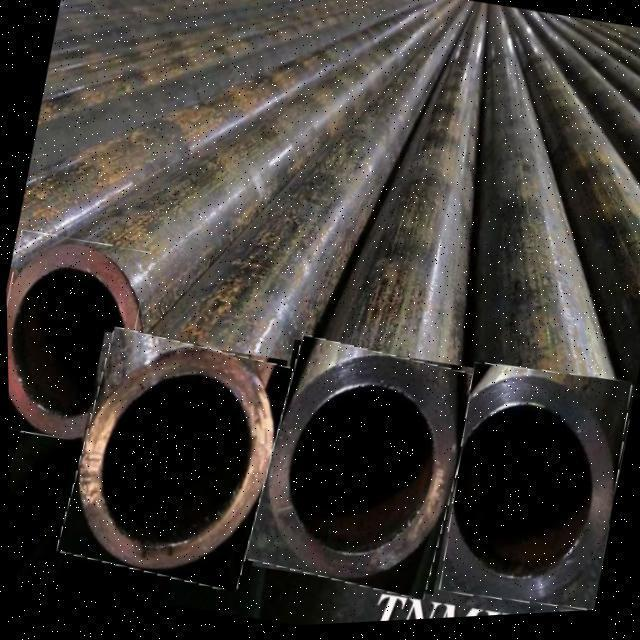pipe: (53, 328, 291, 594), (243, 338, 479, 603), (436, 368, 629, 616), (5, 229, 148, 447)
